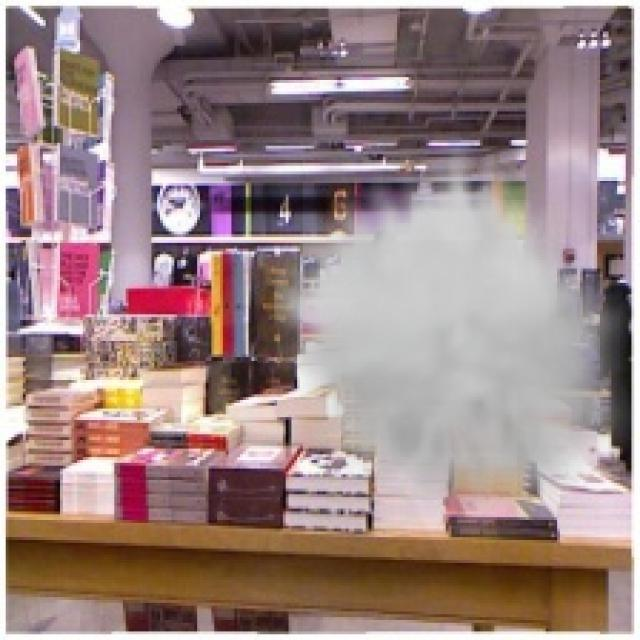Smoke: (274, 148, 632, 540)
